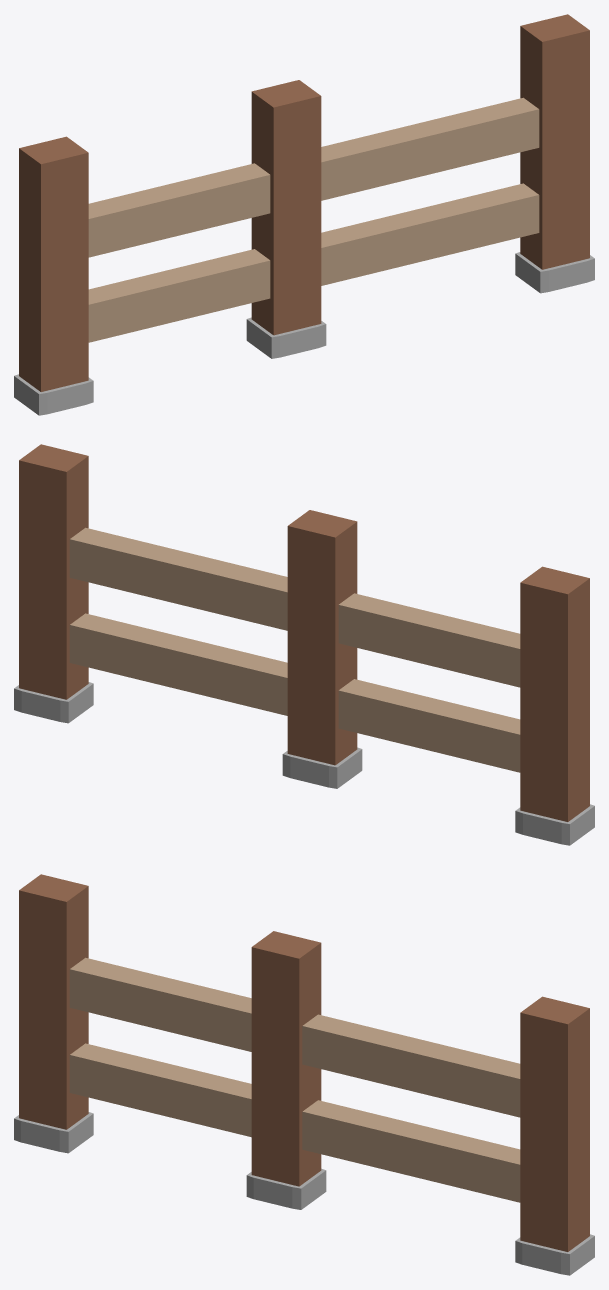
The model's file is tr_fence_v2.fbx.
The picture shows the model from 3 angles, top to bottom: view 1: azimuth 30°, elevation 25°; view 2: azimuth 150°, elevation 25°; view 3: azimuth 330°, elevation 25°; orthographic projection.
Parts seen in each view (by area): view 1: Cube; view 2: Cube; view 3: Cube.
Part boxes in pixels (<box>): Cube: <box>14,14,594,415</box>; Cube: <box>14,444,594,845</box>; Cube: <box>14,874,594,1275</box>.
Bounding box in the file's own units: 1166 × 500 × 96.04.
